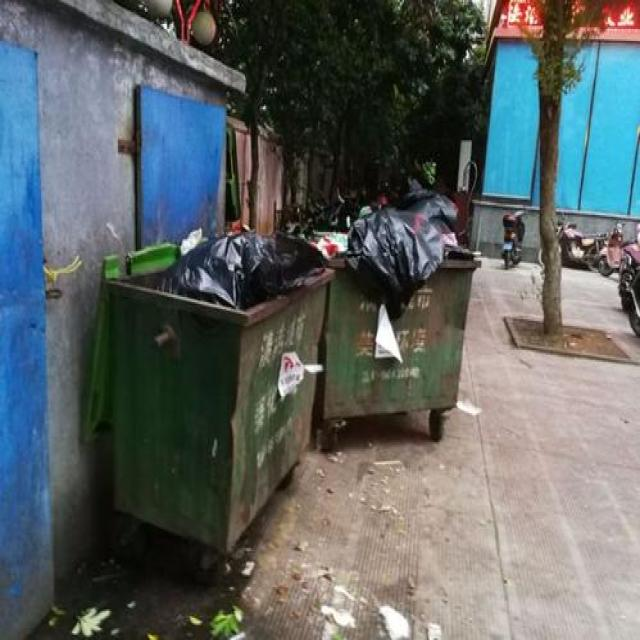overflow: (77, 229, 332, 551), (314, 188, 480, 420)
